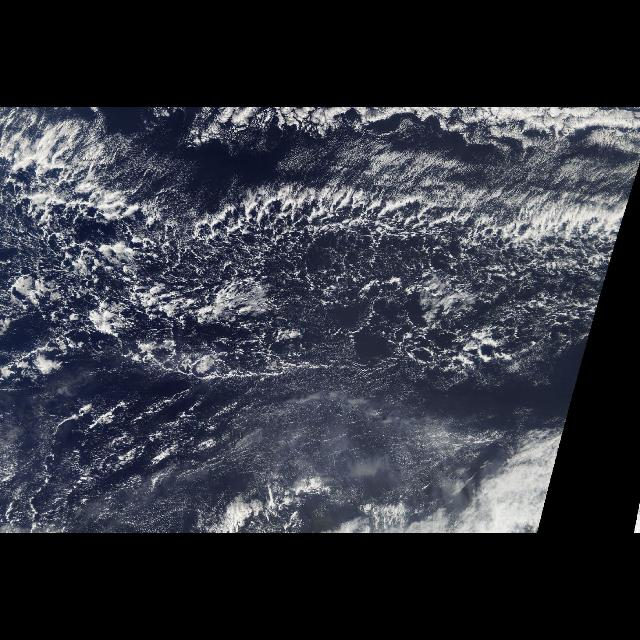Fish: (0, 115, 640, 492)
Gravel: (2, 166, 618, 378)
Sugar: (1, 394, 310, 534)
